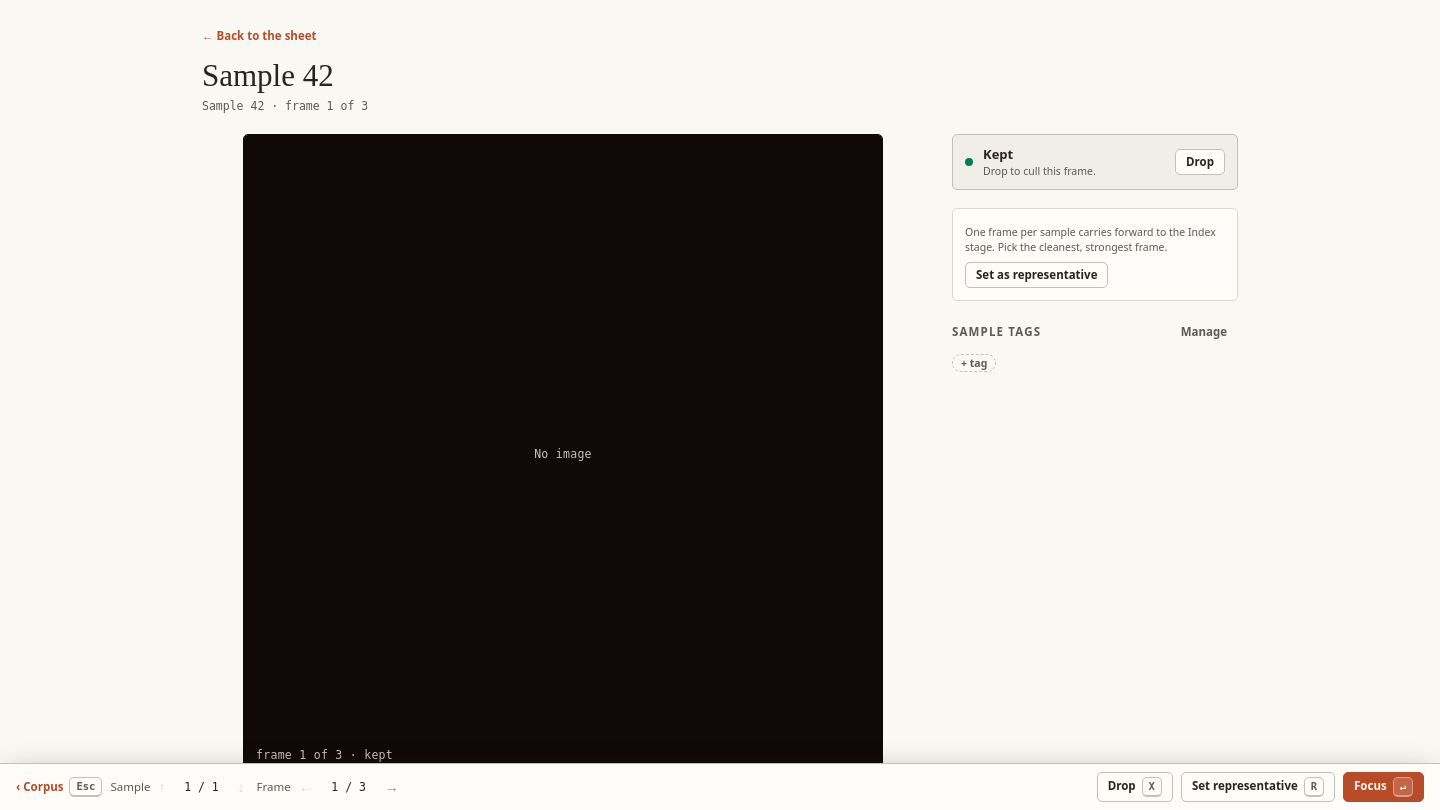
Test: LoupePage action declaration › frame stepper next (dock-next-frame) advances the frame count display
The width and height of the screenshot is (1440, 810).
Expected: the text with test id "dock-frame-count" reads "1 / 3", [331,780,366,794]
Click the button with test id "dock-next-frame" at point(392, 787), box [381,776,403,798]
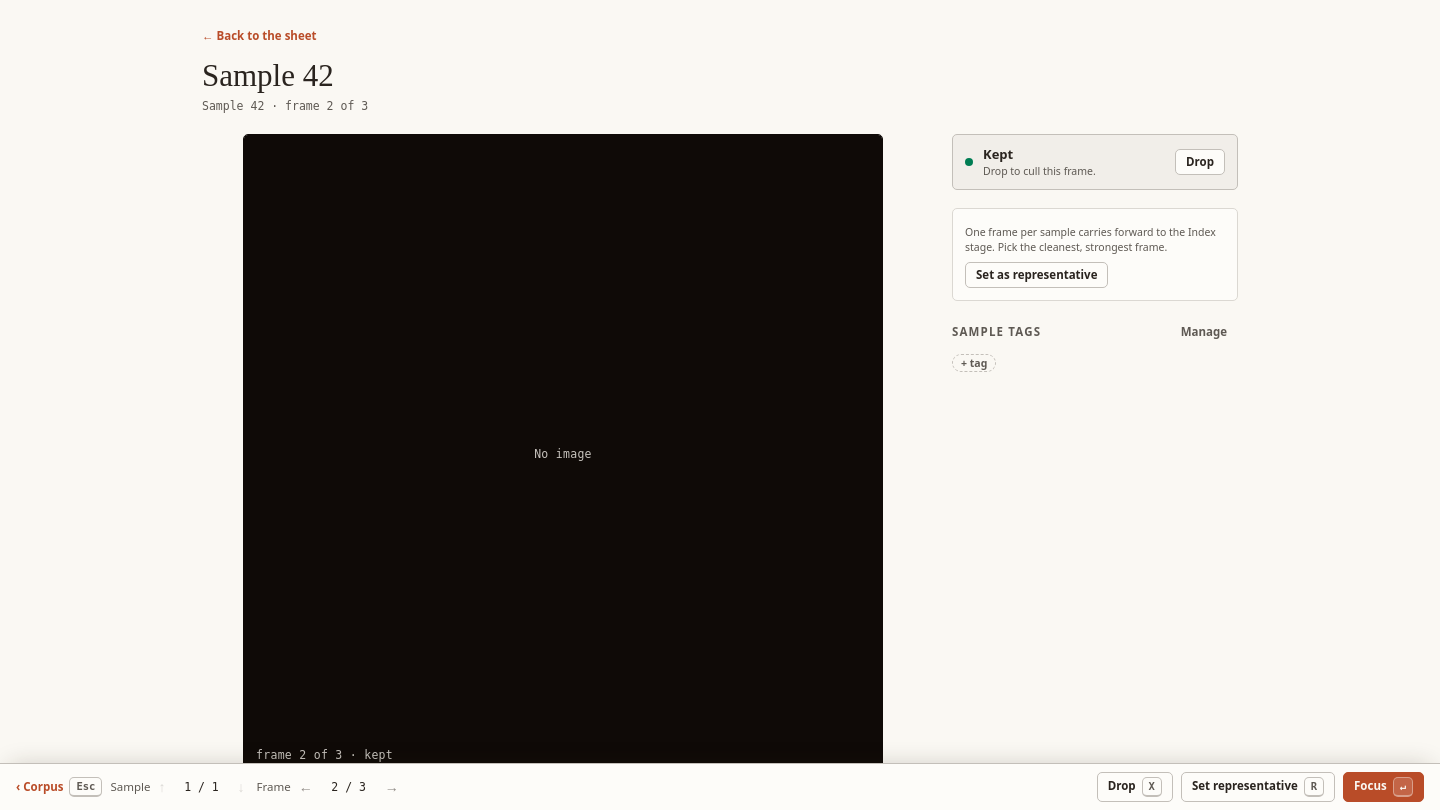
Expected: the text with test id "dock-frame-count" reads "2 / 3", [331,780,366,794]
